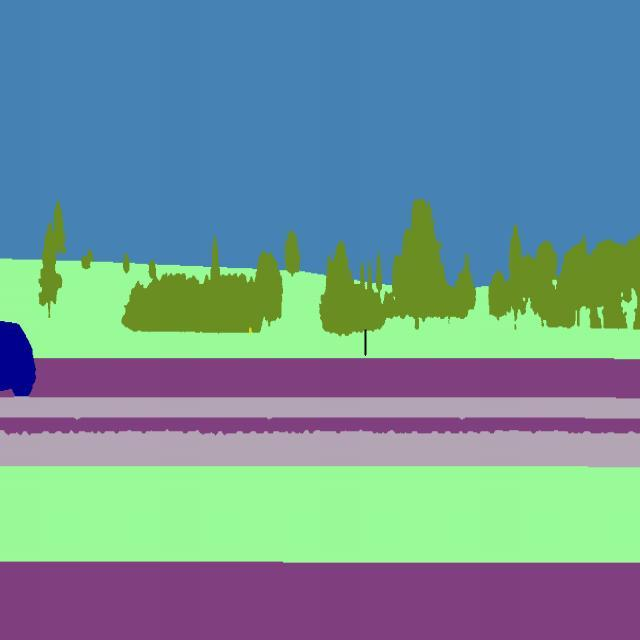safe: (0, 317, 43, 395)
